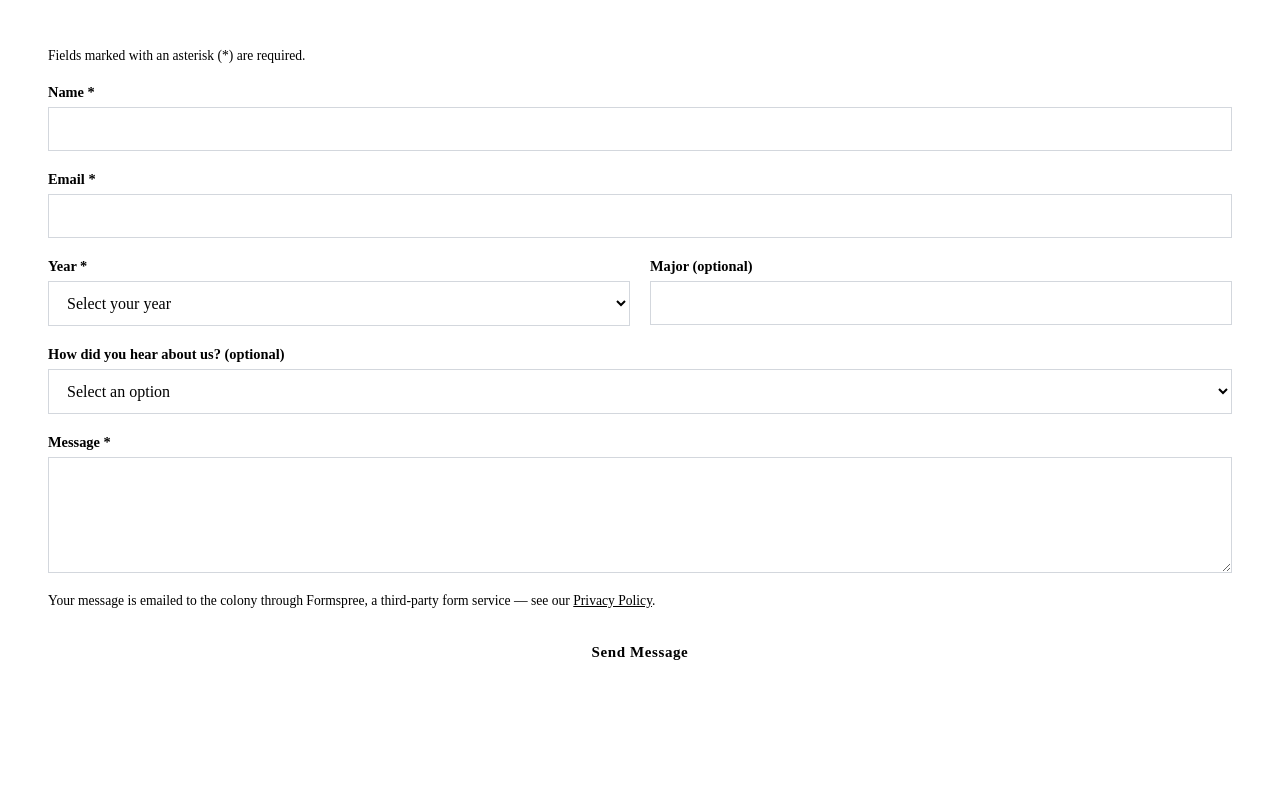
Scenario: ContactForm › rejects an email that isn't a valid address
Type "Founding Father" into the field labelled "Name *". click: (640,129)
box: [48,107,1232,151]
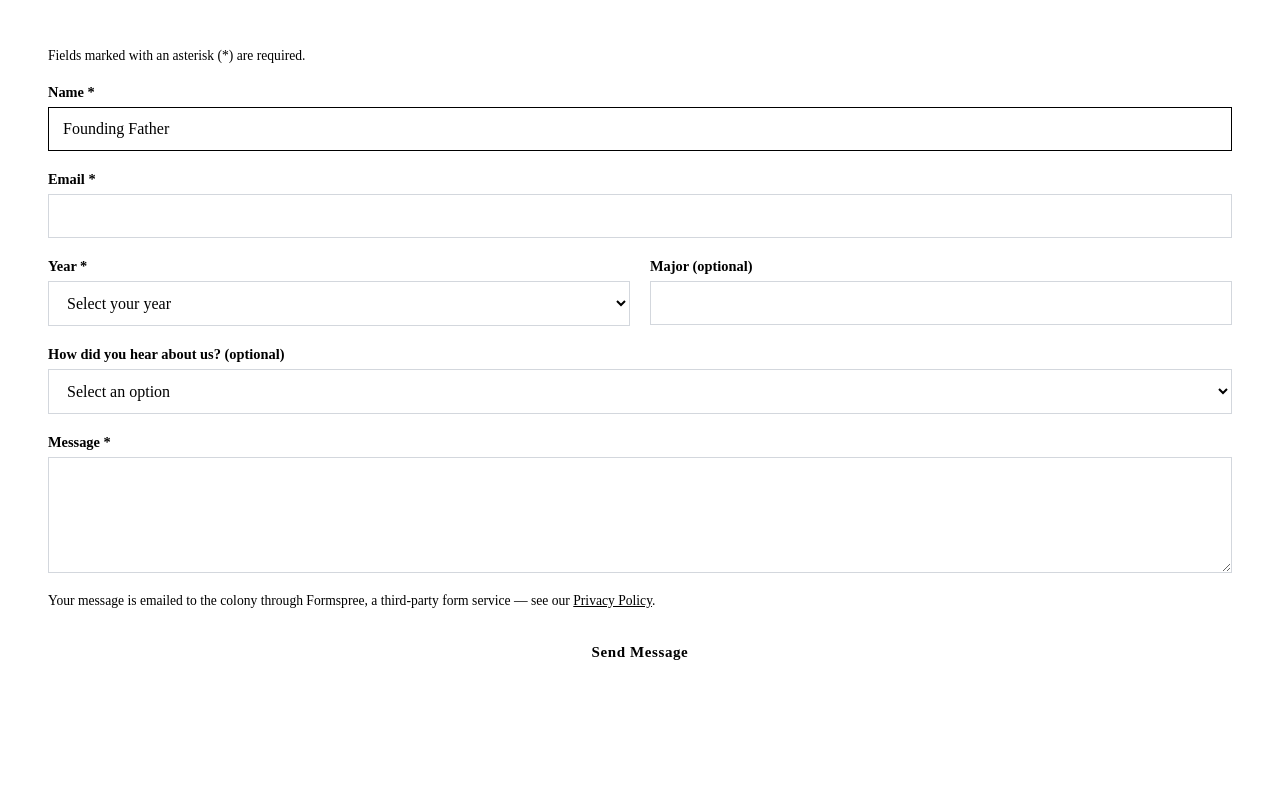
Type "founder@example" into the field labelled "Email *". click: (640,216)
box: [48,194,1232,238]
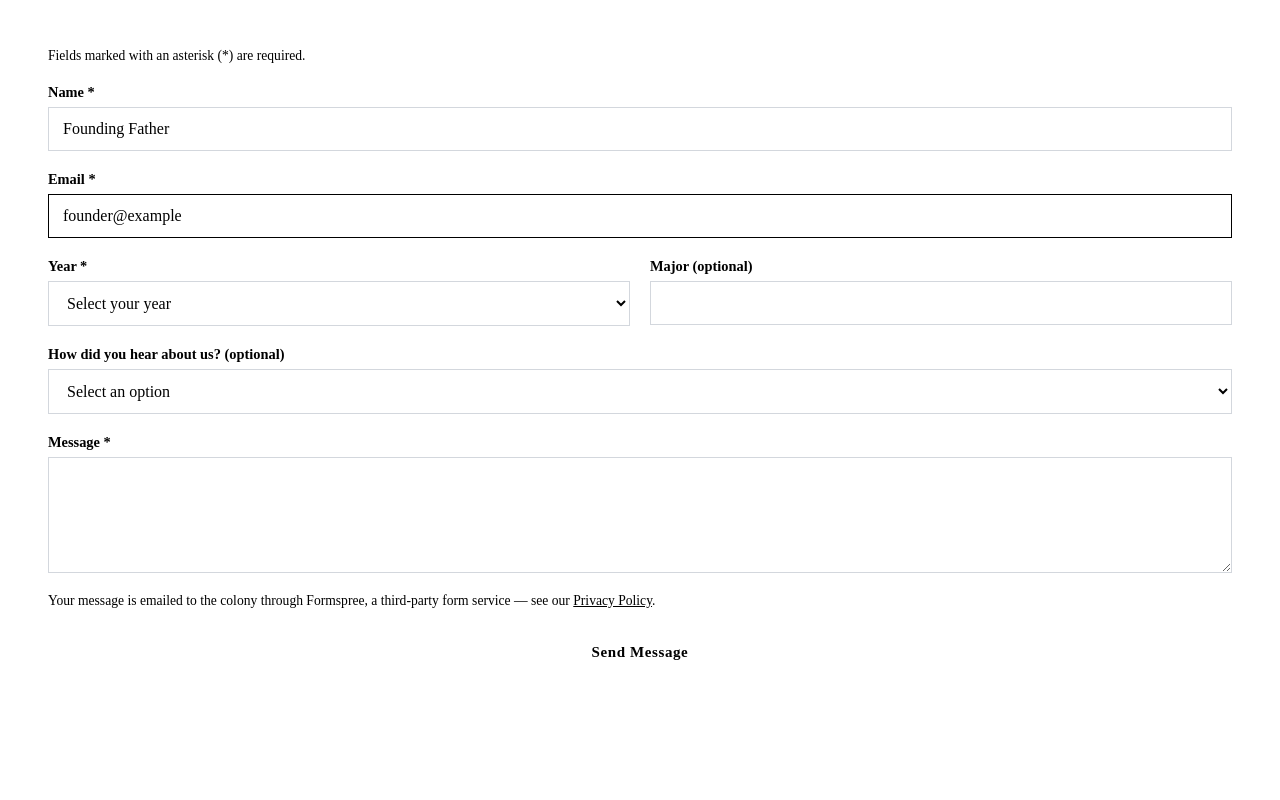
Select "Sophomore" in the dropdown labelled "Year *". click: (339,304)
box: [48,281,630,326]
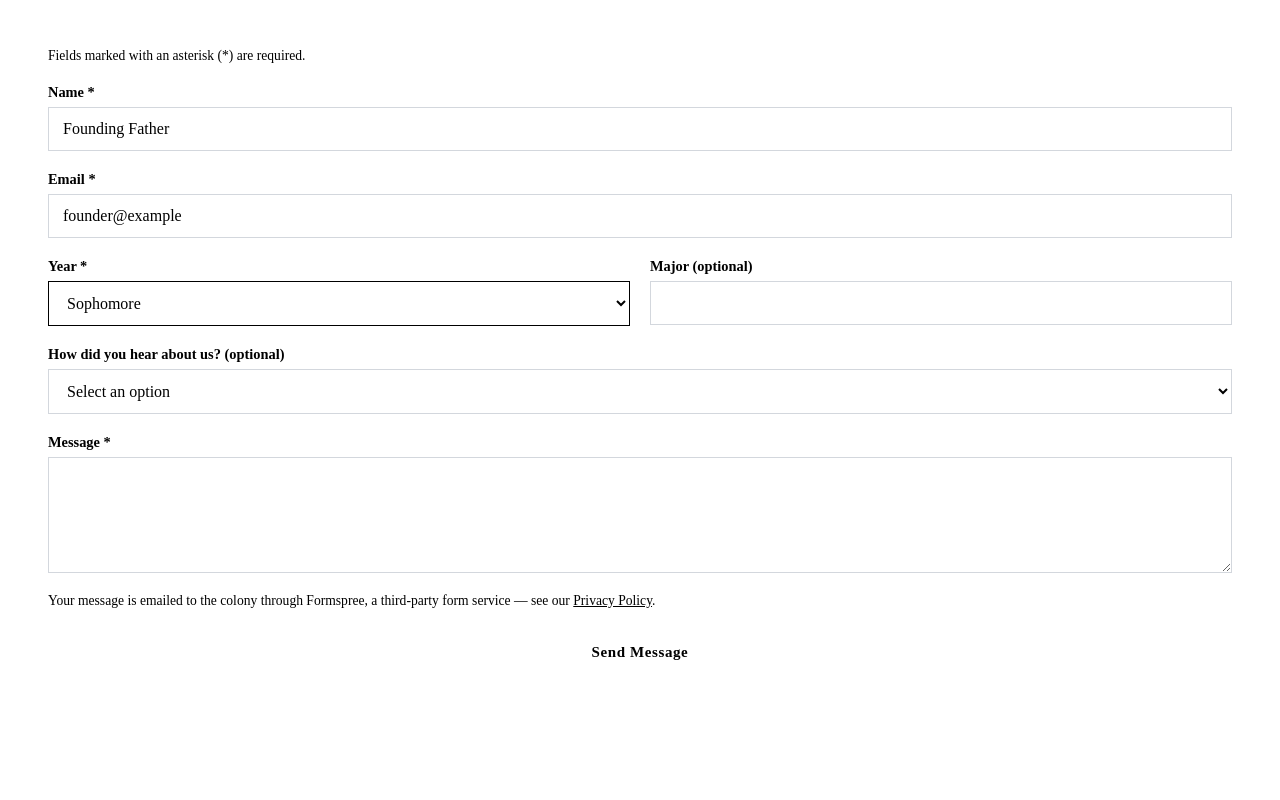
Type "Interested in joining the founding class." into the text box labelled "Message *". click: (640,515)
box: [48,457,1232,573]
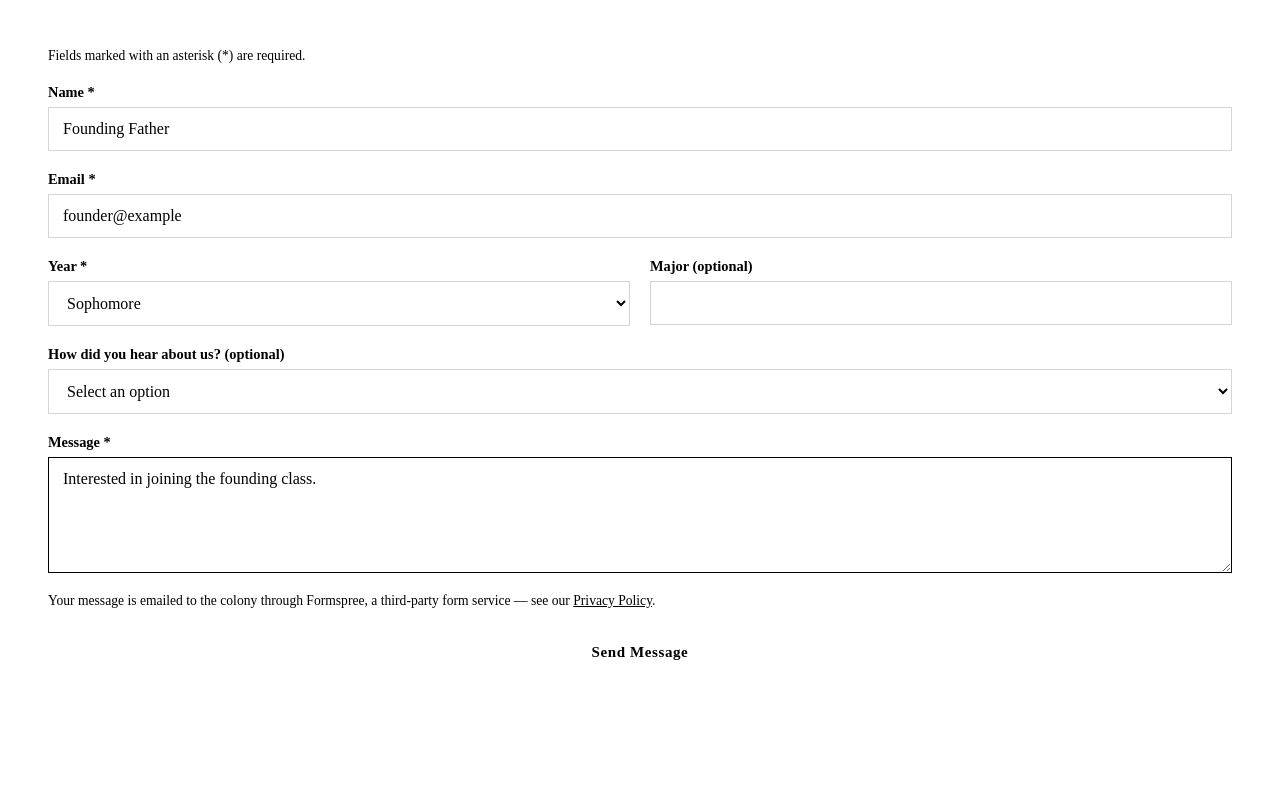
Click the button "Send Message". click: (640,652)
box: [48,629,1232,676]
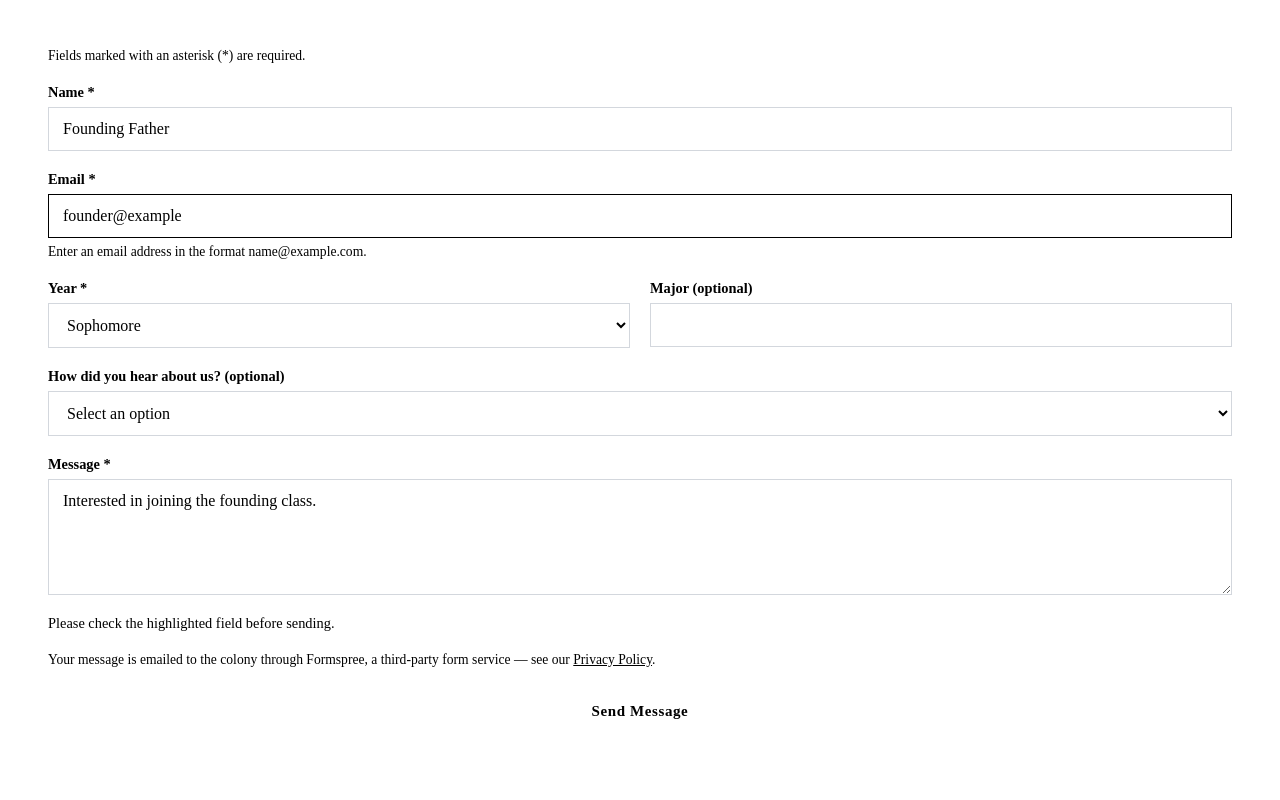
Result: the text "Enter an email address in the format name@example.com." is shown at [48,244,367,259]
